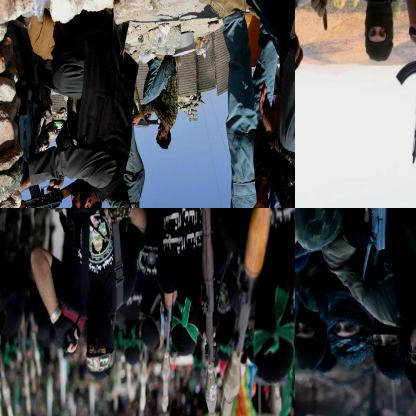rifle: (217, 208, 292, 415), (194, 208, 222, 415), (345, 208, 399, 283), (0, 165, 79, 207), (396, 0, 415, 165)
